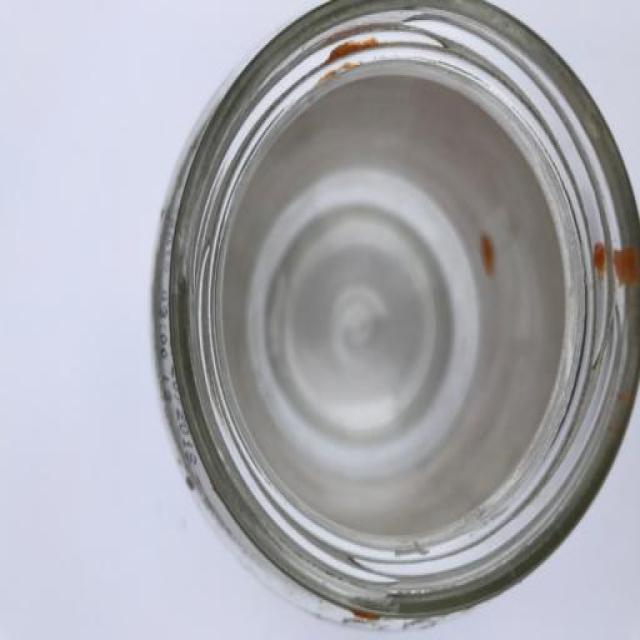Glass: (150, 0, 640, 635)
